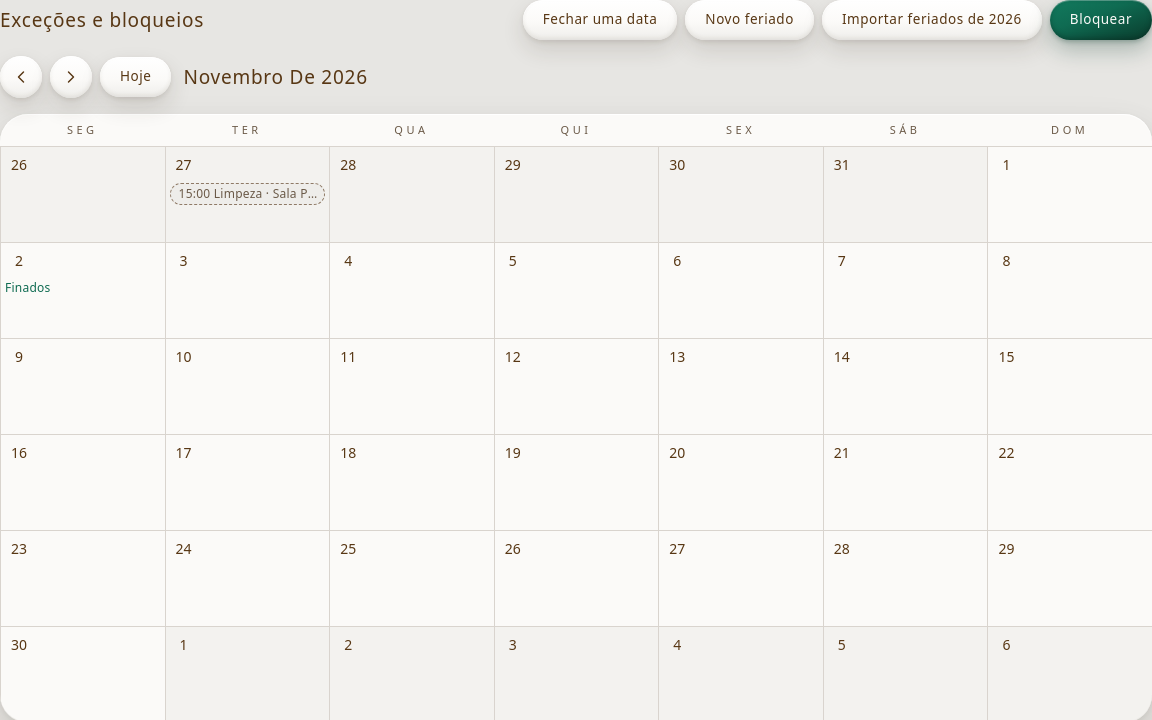
Scenario: ExceptionsMonth (NUC-52) › shows the inserted and updated counts in a toast after importing a year
Step 1. Click the button "Importar feriados de 2026" → x=932, y=20, box top-left (822, 0), bottom-right (1042, 40)
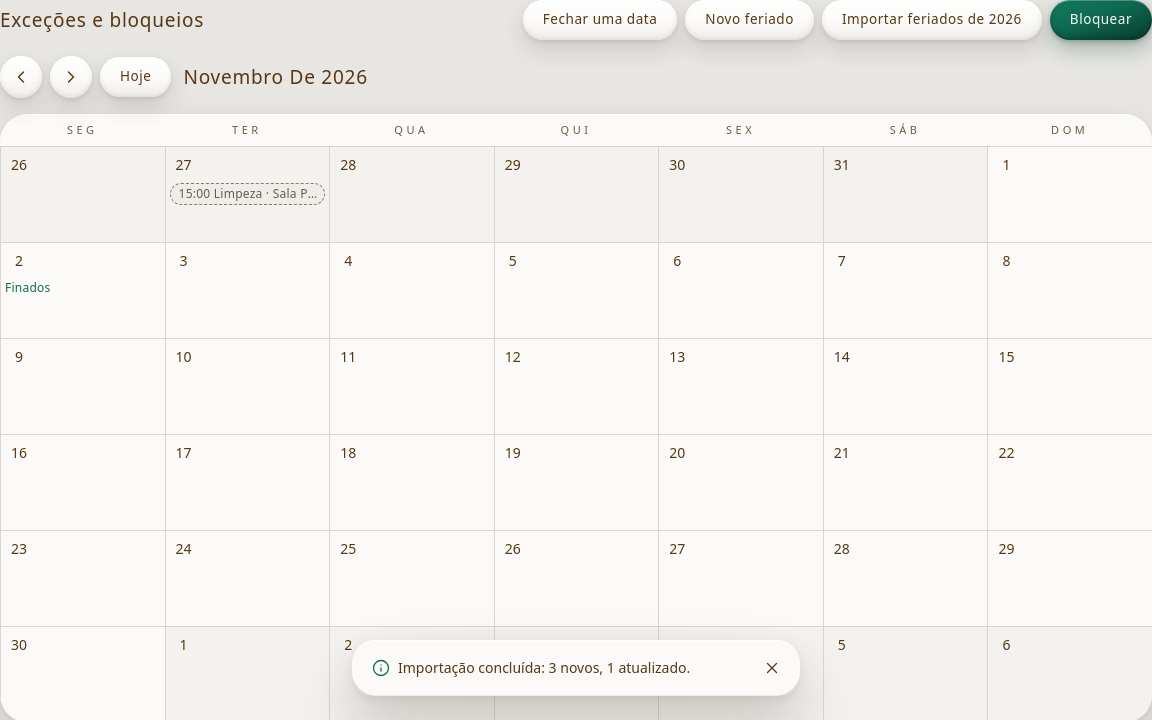
Expected: the text "Importação concluída: 3 novos, 1 atualizado." is shown, top-left (398, 658), bottom-right (690, 677)
